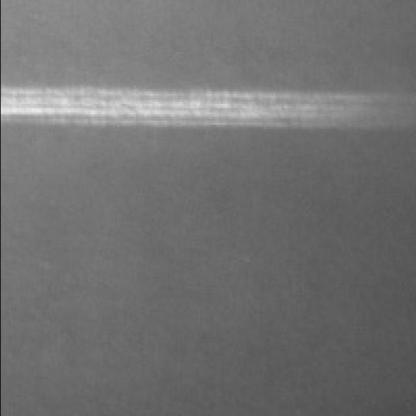scratches: (5, 77, 398, 127)
